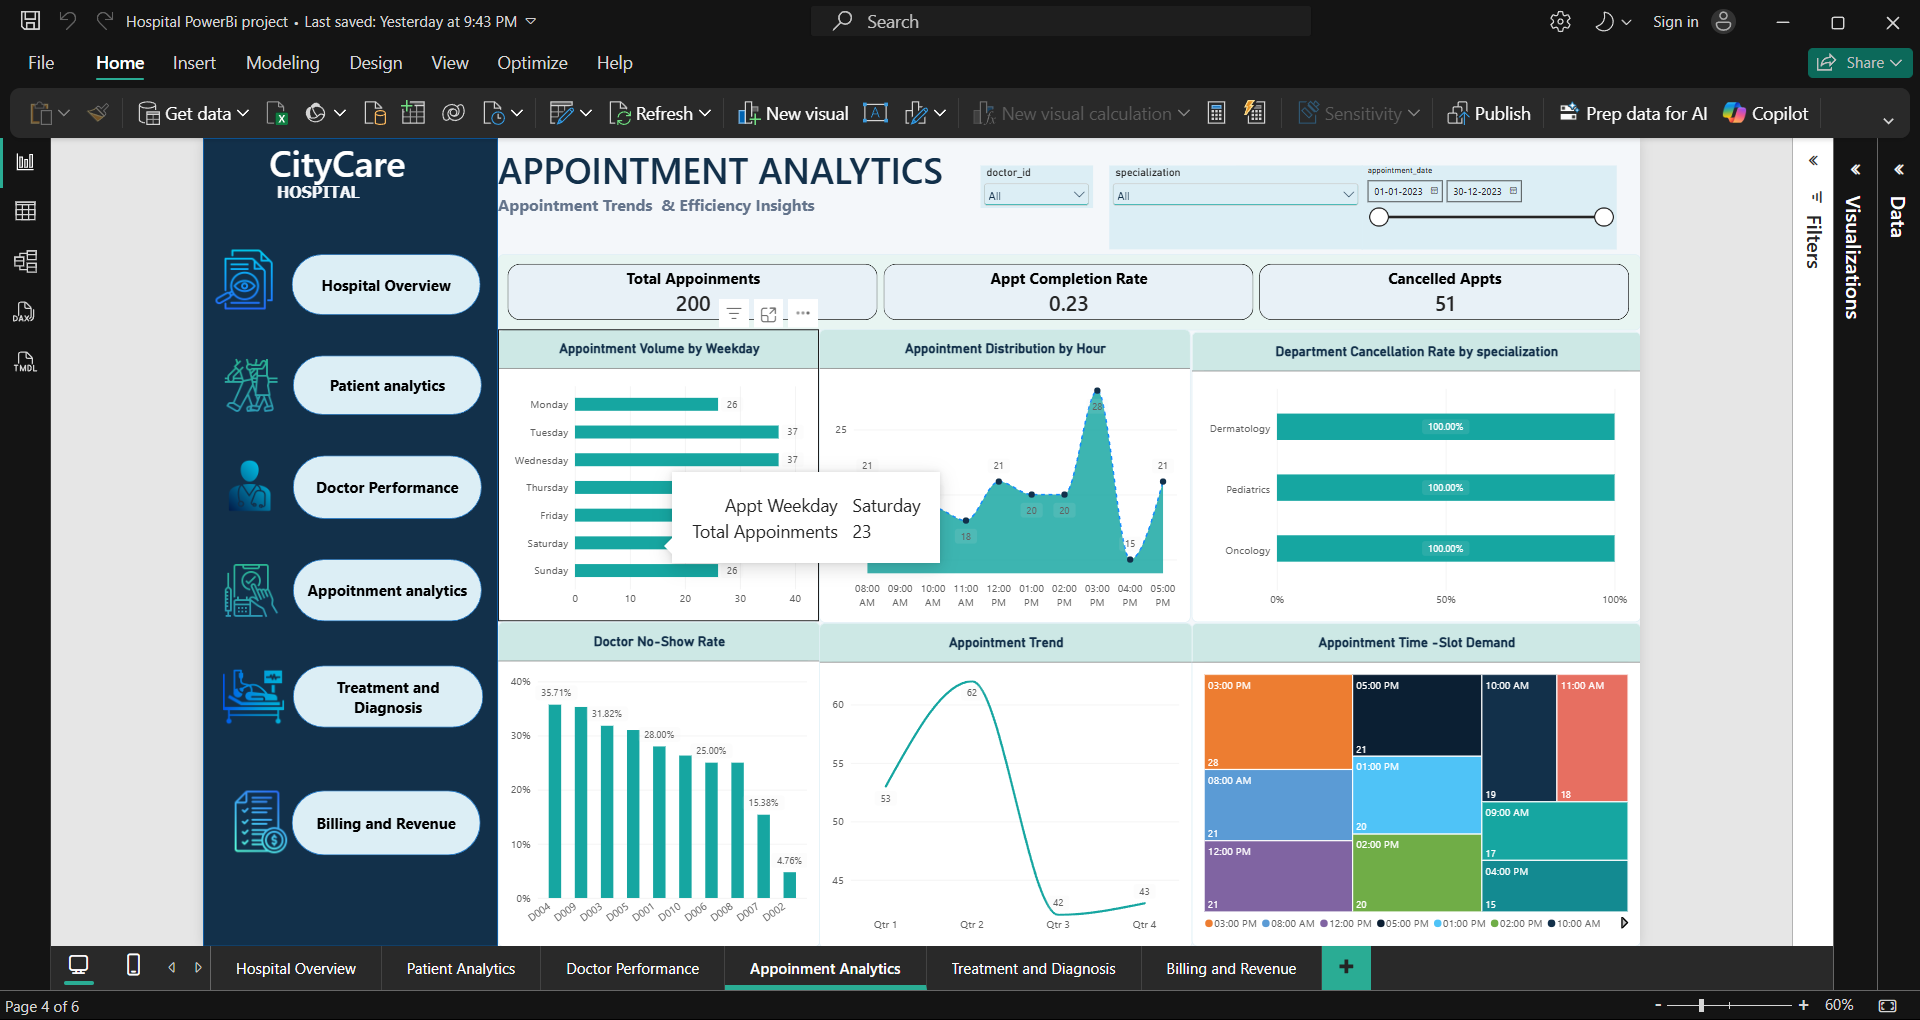

Layout of this report page (visuals, bound fields, positions):
{"tool":"powerbi","page":{"name":"Appoinment Analytics","canvas":[1920,1080],"ordinal":3},"visuals":[{"type":"shape","box":[0,0,394,1080],"z":0},{"type":"textbox","box":[14.3,0,328.6,91.8],"z":1000},{"type":"textbox","box":[393.3,10,615,118.3],"z":2000},{"type":"textbox","box":[79.6,59.2,263.3,32.7],"z":3000},{"type":"slicer","title":"Appoinment Date","fields":{"Values":["appointments.appointment_date"]},"box":[1548,36,340,112],"z":4000},{"type":"slicer","fields":{"Values":["doctors.specialization"]},"box":[1210,36,338,112],"z":5000},{"type":"shape","box":[117.8,154.6,252.1,81],"z":6000},{"type":"shape","box":[119.6,290.8,252.1,79.1],"z":7000},{"type":"shape","box":[119.6,423.3,252.1,84.7],"z":8000},{"type":"shape","box":[119.6,563.2,252.1,82.8],"z":9000},{"type":"shape","box":[119.6,704.9,254,82.8],"z":10000},{"type":"shape","box":[117.8,872.4,252.1,86.5],"z":11000},{"type":"image","box":[11,149.1,86.5,81],"z":12000},{"type":"image","box":[26.5,289.8,75.5,79.6],"z":13000},{"type":"image","box":[26.5,422.4,71.4,83.7],"z":14000},{"type":"image","box":[26.5,563.3,75.5,83.7],"z":15000},{"type":"image","box":[26.5,704.1,81.6,83.7],"z":16000},{"type":"image","box":[32.7,871.4,87.8,83.7],"z":17000},{"type":"cardVisual","fields":{"Data":["appointments.Total Appoinments","appointments.Appt Completion Rate","appointments.Cancelled Appts"]},"box":[393.3,155,1526.7,101.7],"z":18000},{"type":"clusteredBarChart","title":"Appointment Volume by Weekday","fields":{"Category":["appointments.Appt Weekday"],"Y":["appointments.Total Appoinments"]},"box":[394,256,430,390],"z":19000},{"type":"areaChart","title":"Appointment Distribution by Hour","fields":{"Category":["appointments.Hour Label"],"Y":["appointments.Total Appoinments"]},"box":[824,256,496,392],"z":20000},{"type":"hundredPercentStackedBarChart","fields":{"Category":["doctors.specialization"],"Y":["Doctor Performance Metrices.Department Cancellation Rate"]},"box":[1320,258,600,388],"z":21000},{"type":"clusteredColumnChart","title":"Doctor No-Show Rate ","fields":{"Category":["doctors.doctor_id"],"Y":["Doctor Performance Metrices.Doctor No-Show Rate"]},"box":[394,646,430,434],"z":22000},{"type":"lineChart","title":"Appointment Trend","fields":{"Category":["appointments.appointment_date.Variation.Date Hierarchy.Quarter","appointments.appointment_date.Variation.Date Hierarchy.Day"],"Y":["appointments.Total Appoinments"]},"box":[824,648,498,434],"z":23000},{"type":"treemap","title":"Appointment Time -Slot Demand","fields":{"Group":["appointments.Hour Label"],"Values":["appointments.Total Appoinments"]},"box":[1320,648,600,432],"z":24000},{"type":"slicer","fields":{"Values":["appointments.doctor_id"]},"box":[1038.3,36.7,150,56.7],"z":25000}]}

Visuals, with their boxes on the page's 1920x1080 design canvas (x1, y1, x2, y2). These are canvas units, not pixel positions in the 1920x1020 screenshot, which may show the page scaled, cropped or inside an application window:
shape: 0/0/394/1080
textbox: 14/0/343/92
textbox: 393/10/1008/128
textbox: 80/59/343/92
"Appoinment Date" slicer: 1548/36/1888/148
slicer - doctors.specialization: 1210/36/1548/148
shape: 118/155/370/236
shape: 120/291/372/370
shape: 120/423/372/508
shape: 120/563/372/646
shape: 120/705/374/788
shape: 118/872/370/959
image: 11/149/98/230
image: 26/290/102/369
image: 26/422/98/506
image: 26/563/102/647
image: 26/704/108/788
image: 33/871/120/955
cardVisual - appointments.Total Appoinments x appointments.Appt Completion Rate: 393/155/1920/257
"Appointment Volume by Weekday" clusteredBarChart: 394/256/824/646
"Appointment Distribution by Hour" areaChart: 824/256/1320/648
hundredPercentStackedBarChart - doctors.specialization x Doctor Performance Metrices.Department Cancellation Rate: 1320/258/1920/646
"Doctor No-Show Rate " clusteredColumnChart: 394/646/824/1080
"Appointment Trend" lineChart: 824/648/1322/1082
"Appointment Time -Slot Demand" treemap: 1320/648/1920/1080
slicer - appointments.doctor_id: 1038/37/1188/93
